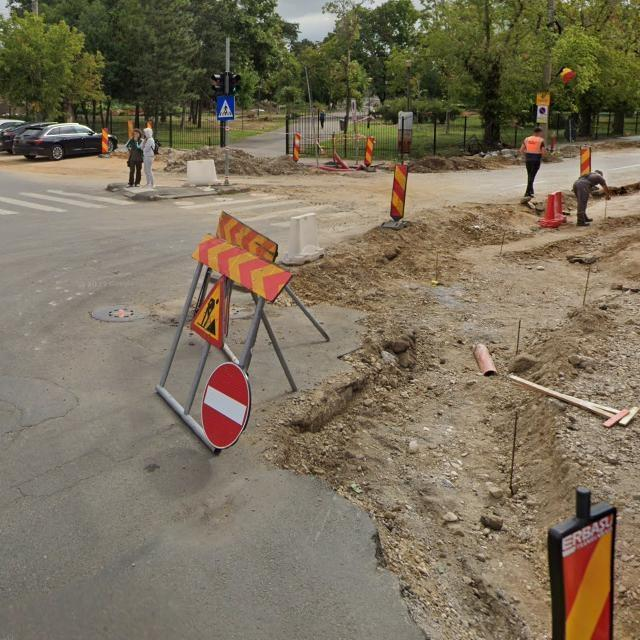info_crosswalk: (216, 95, 235, 120)
